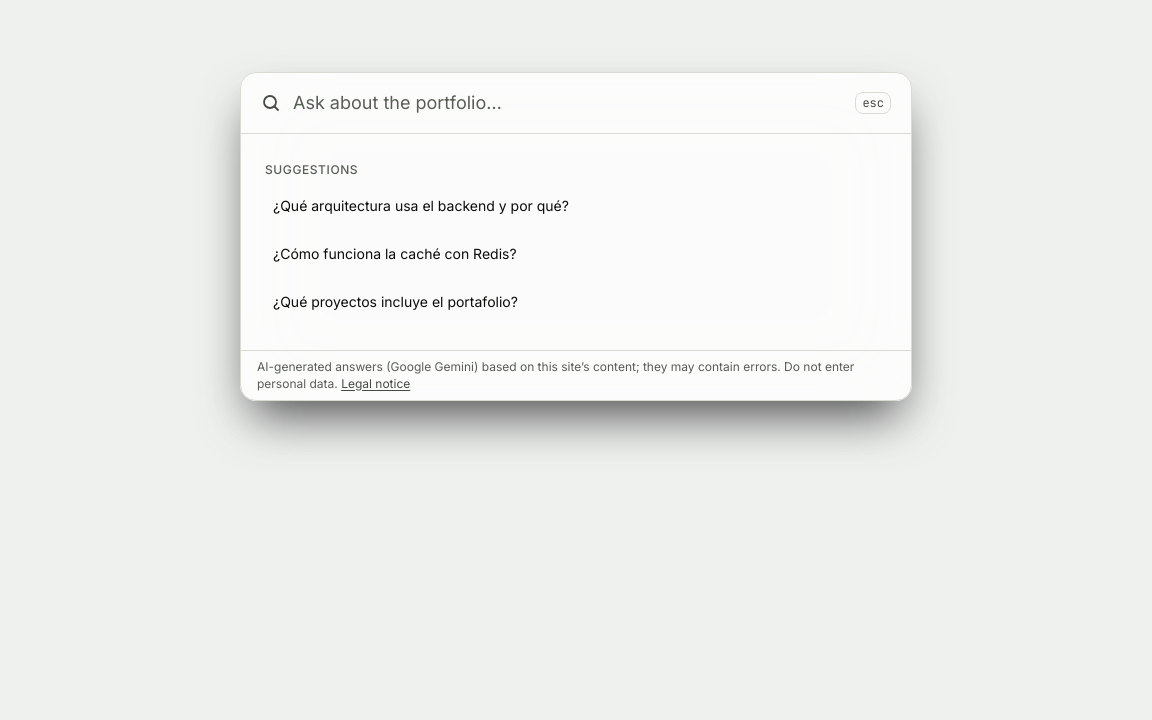
it: shows the rate limit as an alert that holds the focus until dismissed
The image size is (1152, 720).
Type "prueba 429" into the field with id "rag-prompt" at (568, 103), box [293,89,843,117]
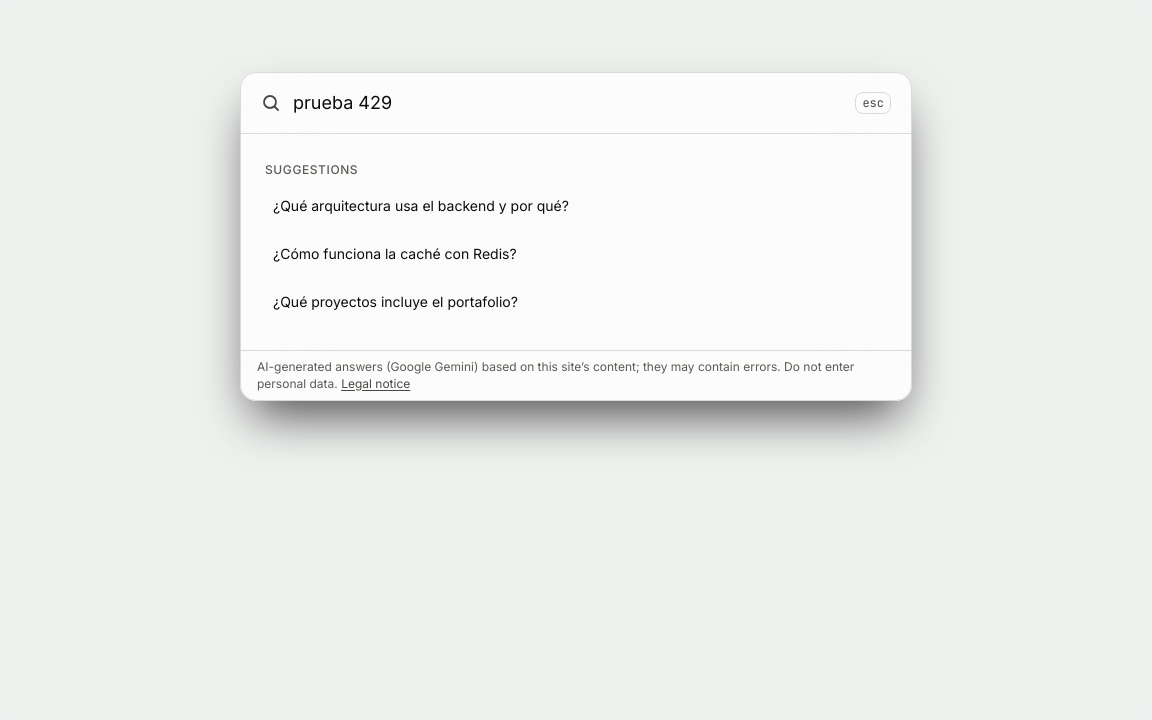
Submit the form, box [241,73,911,134]
Wait 300 ms
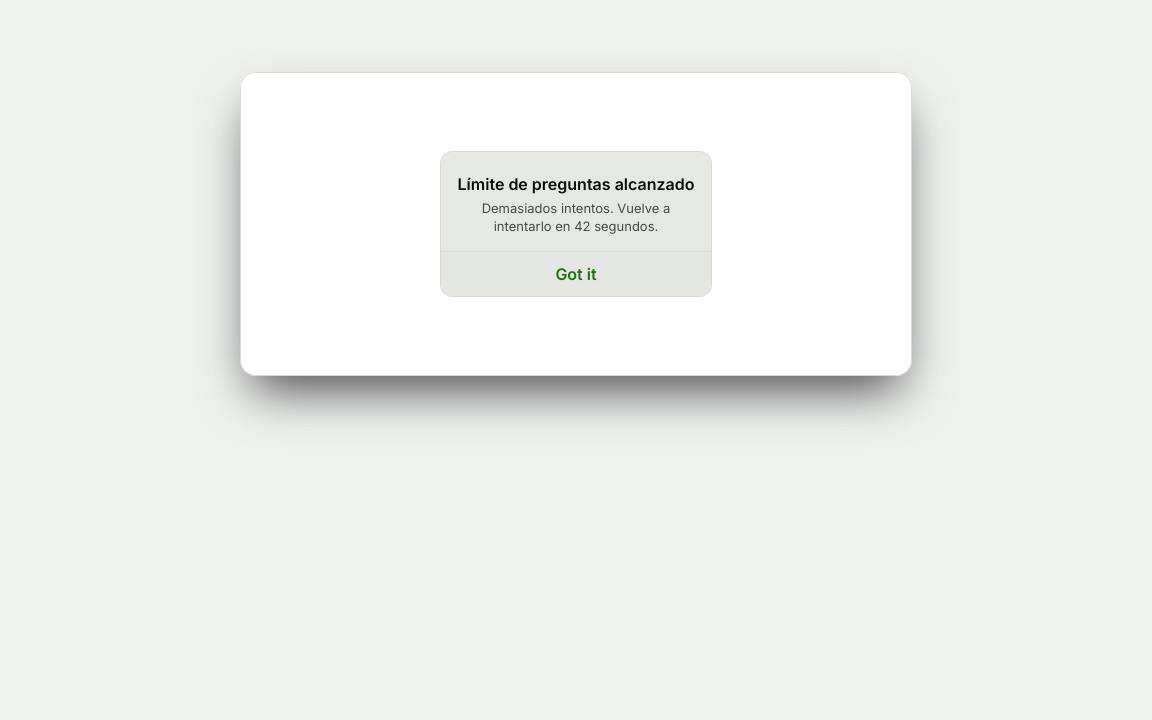
Now the dialog shows "Límite de preguntas alcanzado", box [458,174,694,194]
Now the dialog shows "42 segundos", box [482,200,670,234]
Press Tab in the button "Got it", box [441,251,711,296]
Click the button "Got it" at (576, 274), box [441,251,711,296]
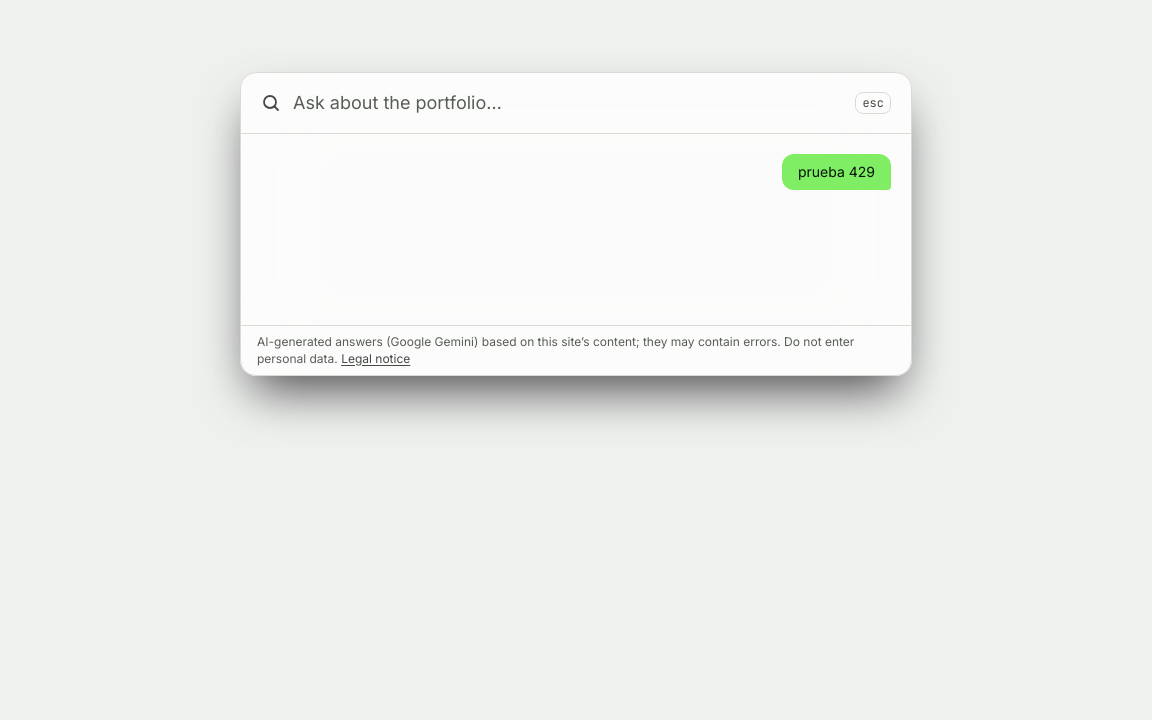
Now the dialog is gone
